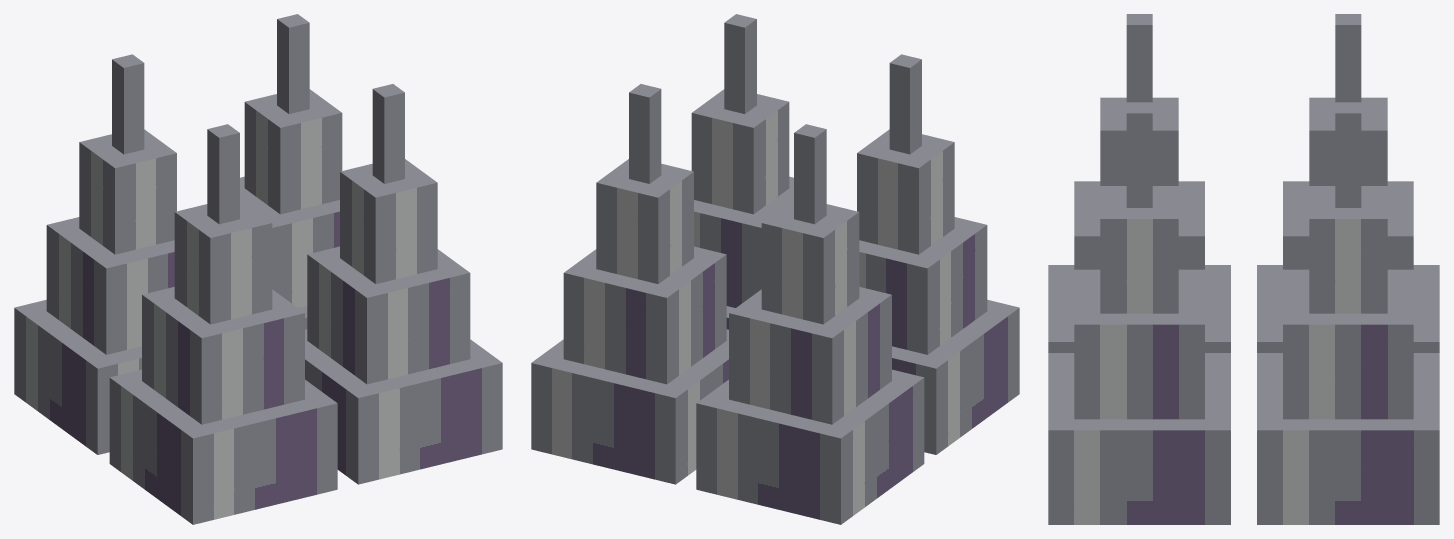
Rendered from spikes.fbx.
The picture shows the model from 3 angles, left to right: view 1: azimuth 30°, elevation 25°; view 2: azimuth 150°, elevation 25°; view 3: azimuth 270°, elevation 25°; orthographic projection. The views are drawn at different scales.
Parts seen in each view (by area): view 1: cube_4, cube, cube_1, cube_5, cube_13, cube_12, cube_6, cube_10, cube_2, cube_14, cube_9, cube_15 (+3 smaller); view 2: cube_12, cube_8, cube_9, cube_13, cube_5, cube_4, cube_14, cube_2, cube_10, cube_6, cube_1, cube_7 (+3 smaller); view 3: cube, cube_8, cube_1, cube_9, cube_2, cube_10, cube_6, cube_14, cube_5, cube_13, cube_4, cube_12 (+4 smaller).
Boxes of the visible parts, box(x1,y1,x2,y2) form: cube_4: box(109, 369, 337, 524); cube: box(305, 329, 502, 484); cube_1: box(307, 246, 470, 384); cube_5: box(142, 287, 304, 424); cube_13: box(46, 217, 174, 354); cube_12: box(14, 299, 141, 454); cube_6: box(174, 199, 272, 324); cube_10: box(244, 89, 342, 214); cube_2: box(340, 159, 437, 283); cube_14: box(79, 129, 176, 254); cube_9: box(240, 176, 339, 307); cube_15: box(112, 54, 144, 154); cube_12: box(696, 369, 924, 524); cube_8: box(531, 329, 728, 484); cube_9: box(563, 246, 726, 384); cube_13: box(729, 287, 891, 424); cube_5: box(859, 217, 987, 354); cube_4: box(892, 299, 1019, 454); cube_14: box(761, 199, 859, 324); cube_2: box(691, 89, 789, 214); cube_10: box(596, 159, 693, 283); cube_6: box(857, 129, 954, 254); cube_1: box(694, 176, 793, 307); cube_7: box(889, 54, 921, 154); cube: box(1048, 353, 1230, 524); cube_8: box(1257, 353, 1439, 524); cube_1: box(1074, 269, 1204, 419); cube_9: box(1283, 269, 1413, 419); cube_2: box(1100, 186, 1178, 313); cube_10: box(1309, 186, 1387, 313); cube_6: box(1100, 97, 1178, 185); cube_14: box(1309, 97, 1387, 185); cube_5: box(1074, 181, 1204, 269); cube_13: box(1283, 181, 1413, 269); cube_4: box(1048, 265, 1230, 352); cube_12: box(1257, 265, 1439, 352).
Bounding box in the file's own units: 93.75 × 100 × 93.75.
Materials: 1 (1 with a texture image).
